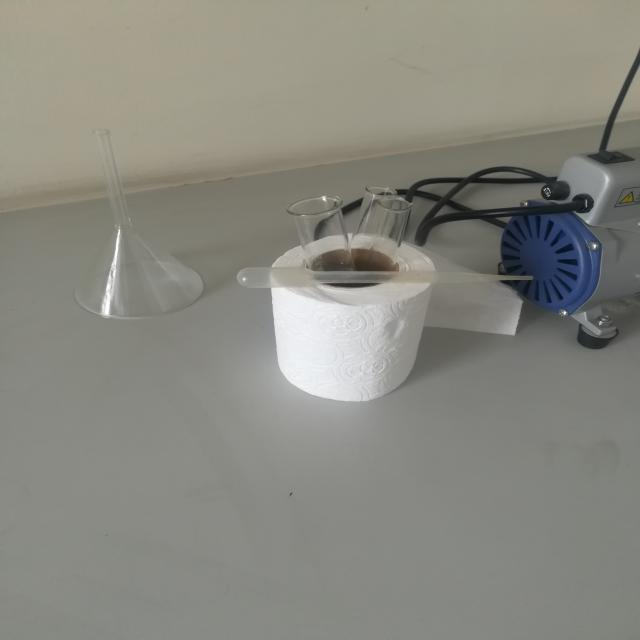Funnel: (76, 112, 211, 338)
Pipette: (226, 247, 564, 310)
